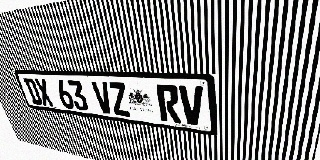3: (67, 80, 89, 111)
6: (54, 79, 76, 110)
D: (23, 78, 43, 105)
R: (156, 84, 181, 123)
V: (179, 85, 205, 126), (91, 81, 114, 115)
X: (33, 78, 55, 107)
Z: (107, 82, 131, 117)
